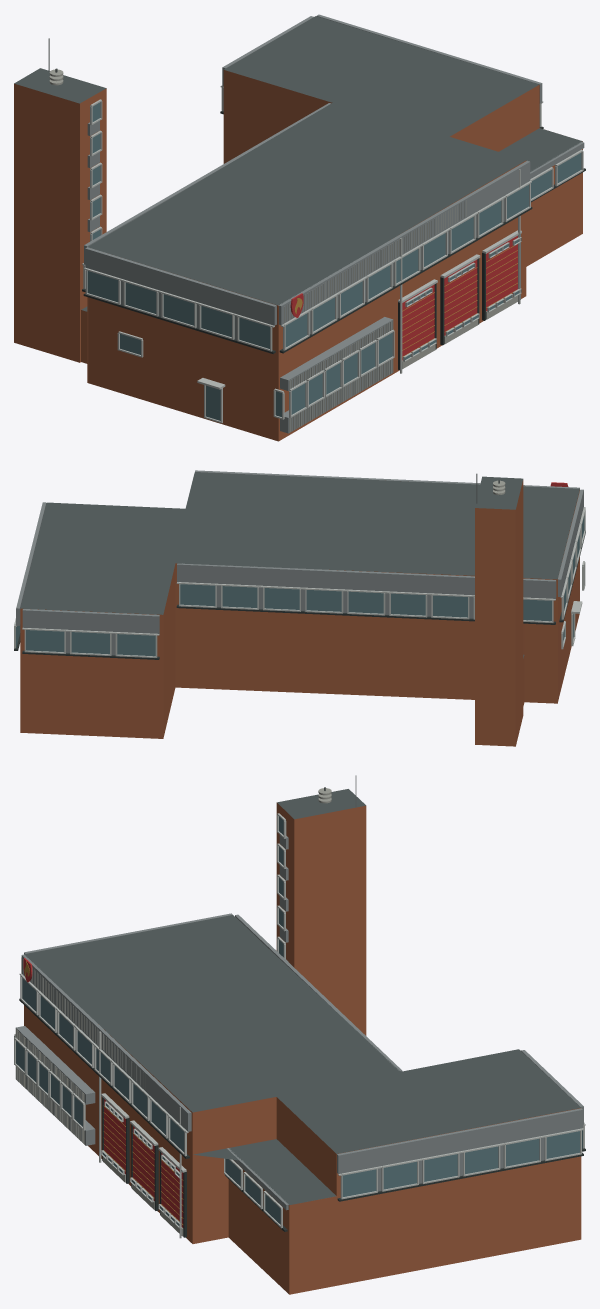
The model's file is fire-station-zebra.glb.
3 renders of one model, top to bottom at view 1: azimuth 30°, elevation 25°; view 2: azimuth 150°, elevation 25°; view 3: azimuth 270°, elevation 25°, orthographic. The views are drawn at different scales.
Visible parts, largest first — view 1: fire-station-zebra; view 2: fire-station-zebra; view 3: fire-station-zebra.
Boxes of the visible parts, <box> form: fire-station-zebra: <box>14,14,585,441</box>; fire-station-zebra: <box>14,470,585,746</box>; fire-station-zebra: <box>14,775,585,1294</box>.
Size of the model in its own units: 37.86 by 19.6 by 35.9.
